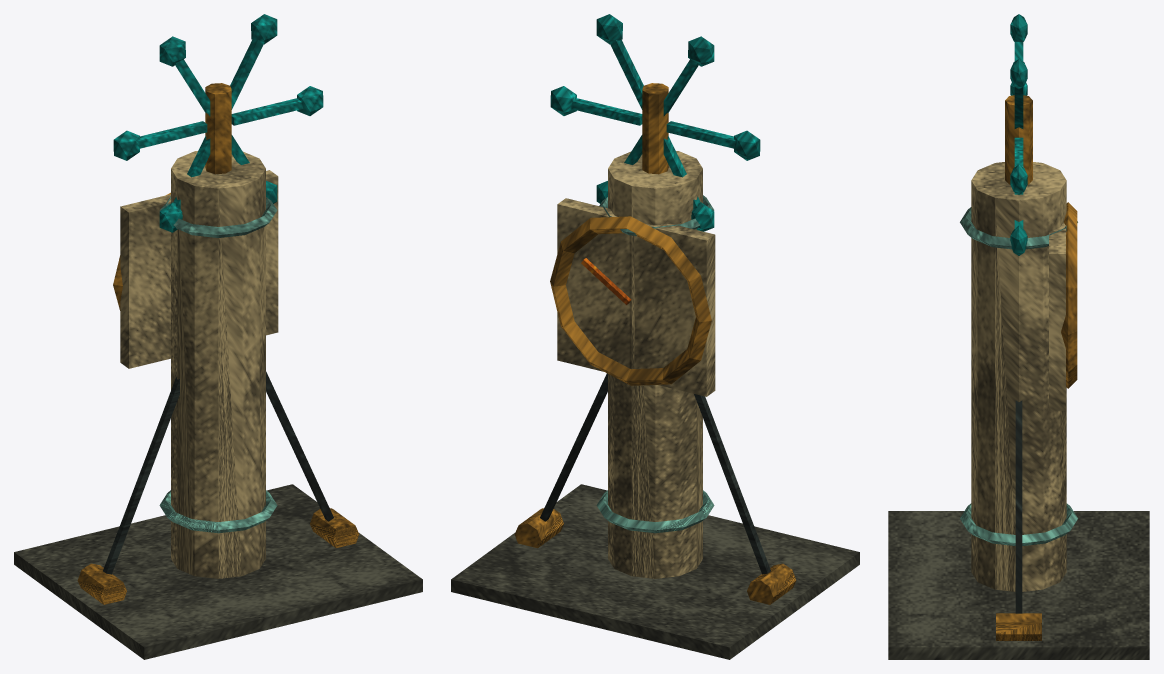
Rendered from six-vein-control-pylon.glb.
3 renders of one model, left to right at view 1: azimuth 30°, elevation 25°; view 2: azimuth 150°, elevation 25°; view 3: azimuth 270°, elevation 25°, orthographic.
Visible parts, largest first — view 1: six-vein-control-pylon; view 2: six-vein-control-pylon; view 3: six-vein-control-pylon.
Part boxes in pixels (left/top/right/bottom): six-vein-control-pylon: left=14, top=14, right=422, bottom=659; six-vein-control-pylon: left=451, top=14, right=859, bottom=659; six-vein-control-pylon: left=888, top=14, right=1149, bottom=659.
Bounding box in the file's own units: 4.2 × 7.97 × 3.4.
Materials: 1 (1 with a texture image).
